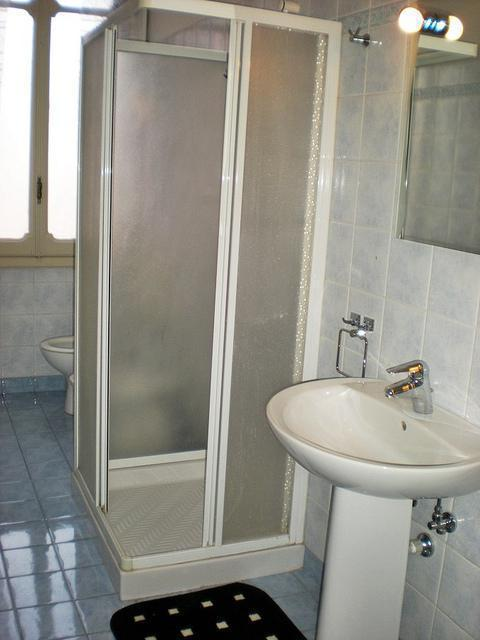Ducha: (73, 14, 344, 610)
Lavamanos: (260, 362, 479, 504)
